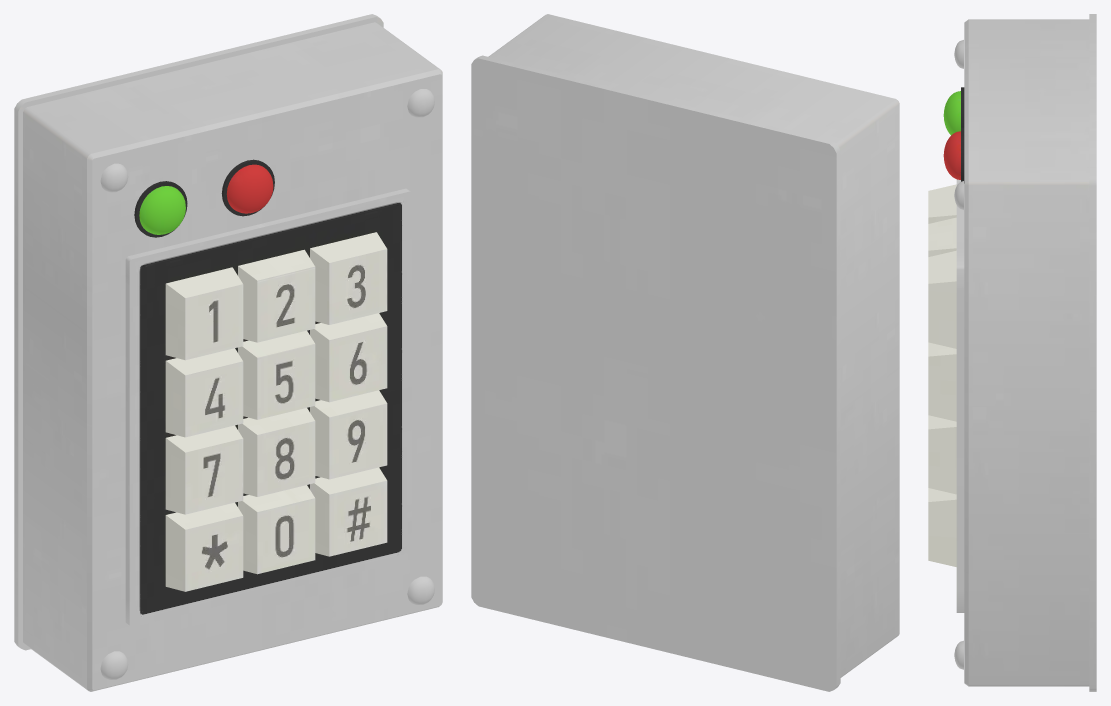
Rendered from keypad_lock.glb.
3 views of the same model, side by side, from view 1: azimuth 30°, elevation 25°; view 2: azimuth 150°, elevation 25°; view 3: azimuth 270°, elevation 25° (orthographic). The views are drawn at different scales.
Parts seen in each view (by area): view 1: KeypadDoorLock; view 2: KeypadDoorLock; view 3: KeypadDoorLock.
Boxes of the visible parts, box(x1,y1,x2,y2) form: KeypadDoorLock: box(14, 14, 442, 691); KeypadDoorLock: box(471, 14, 899, 691); KeypadDoorLock: box(928, 14, 1096, 691).
Bounding box in the file's own units: 0.0924 × 0.1324 × 0.0392.
Materials: 1 (1 with a texture image).
